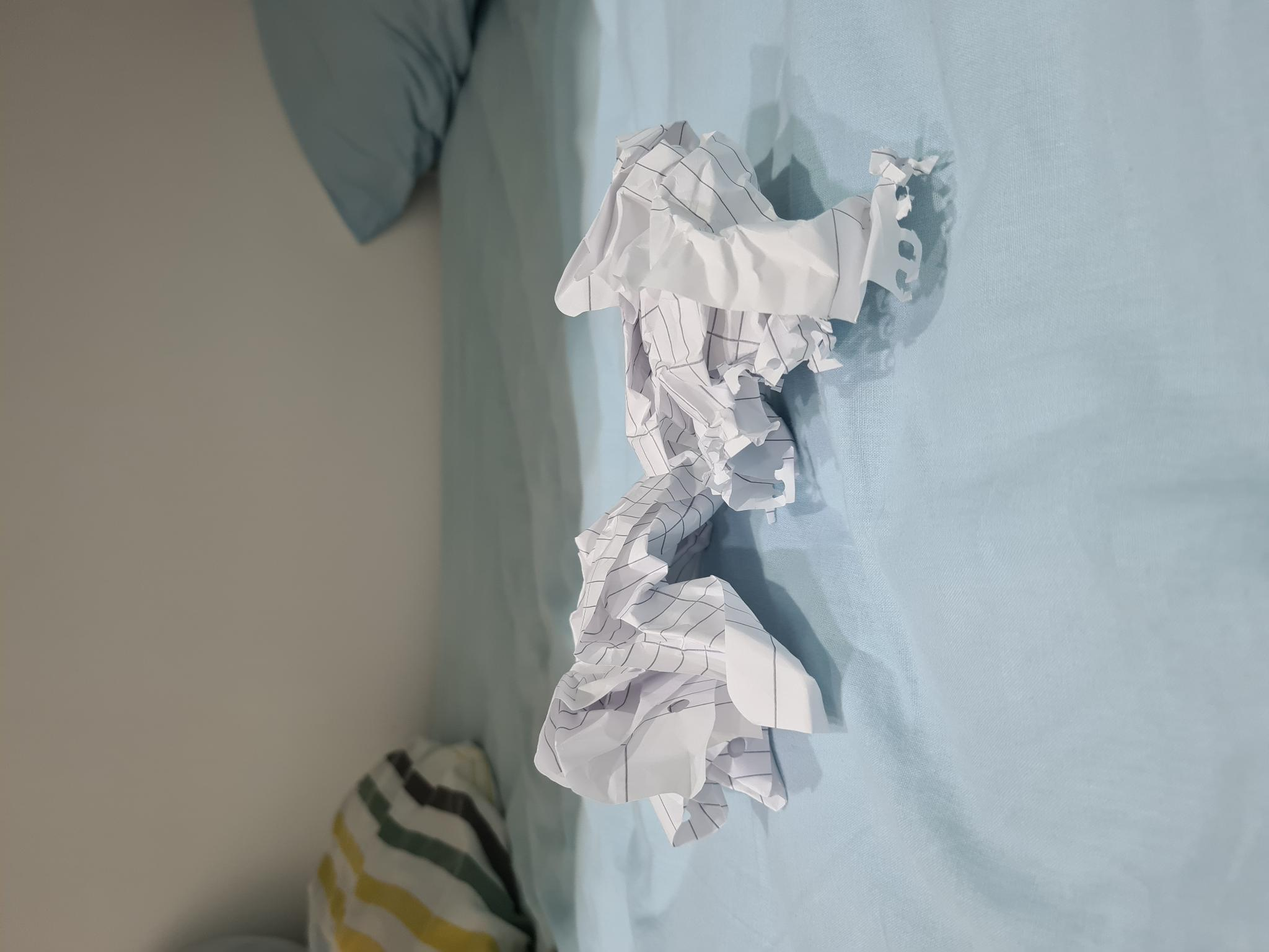Kertas: (107, 536, 829, 933), (439, 556, 829, 932)
